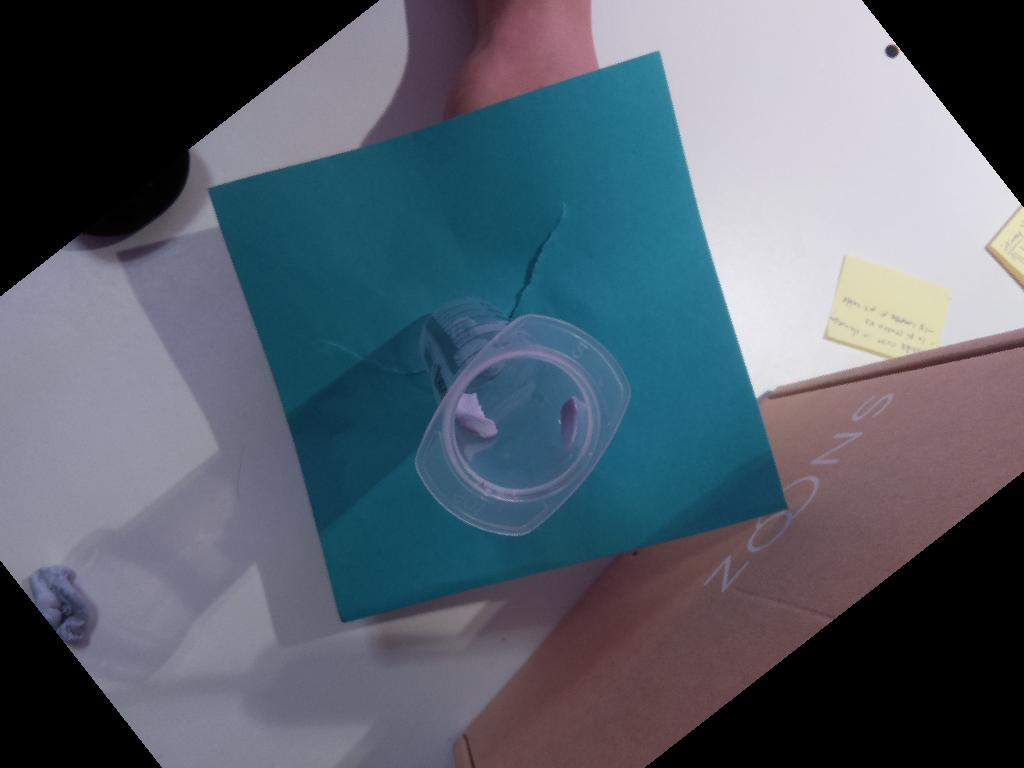dirty: (413, 314, 630, 536)
